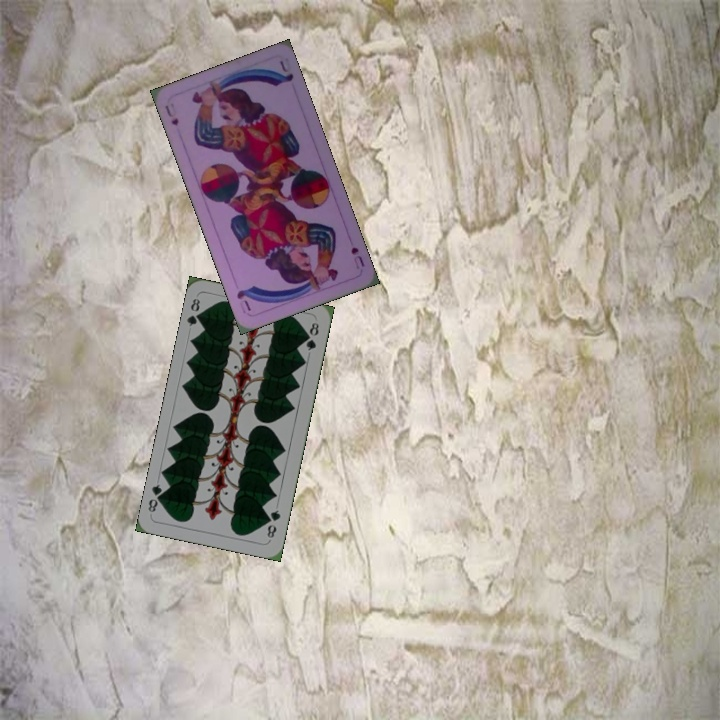G8: (183, 294, 205, 329), (263, 506, 283, 543)
SU: (347, 243, 367, 272), (161, 101, 181, 128)
